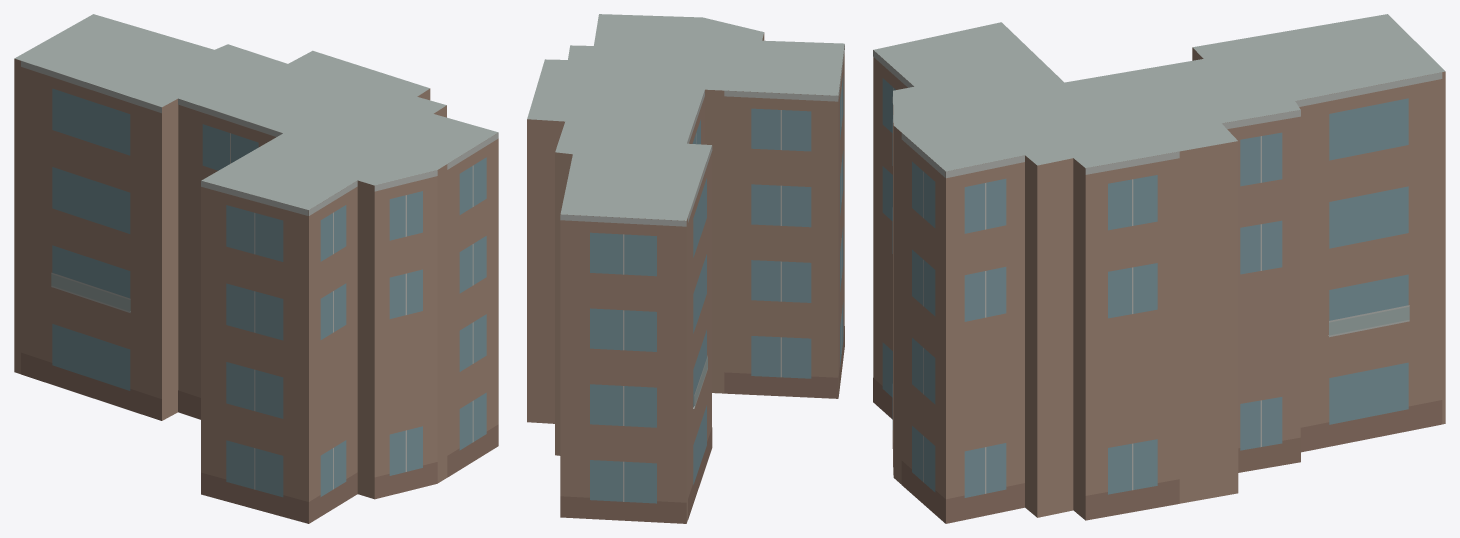
Rendered from survey-upis-32497143.glb.
3 renders of one model, left to right at view 1: azimuth 30°, elevation 25°; view 2: azimuth 150°, elevation 25°; view 3: azimuth 270°, elevation 25°, orthographic. The views are drawn at different scales.
Visible parts, largest first — view 1: survey-upis-32497143.tmp; view 2: survey-upis-32497143.tmp; view 3: survey-upis-32497143.tmp.
Boxes of the visible parts, box(x1,y1,x2,y2) form: survey-upis-32497143.tmp: box(14, 14, 498, 523); survey-upis-32497143.tmp: box(527, 14, 844, 523); survey-upis-32497143.tmp: box(873, 14, 1445, 523).
Size of the model in its own units: 12.19 by 12.7 by 18.71.
